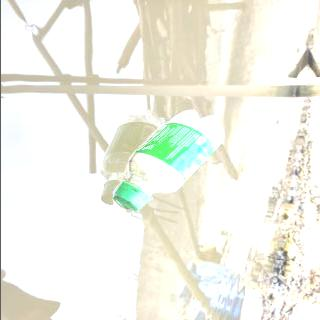bottle: (110, 109, 228, 213)
